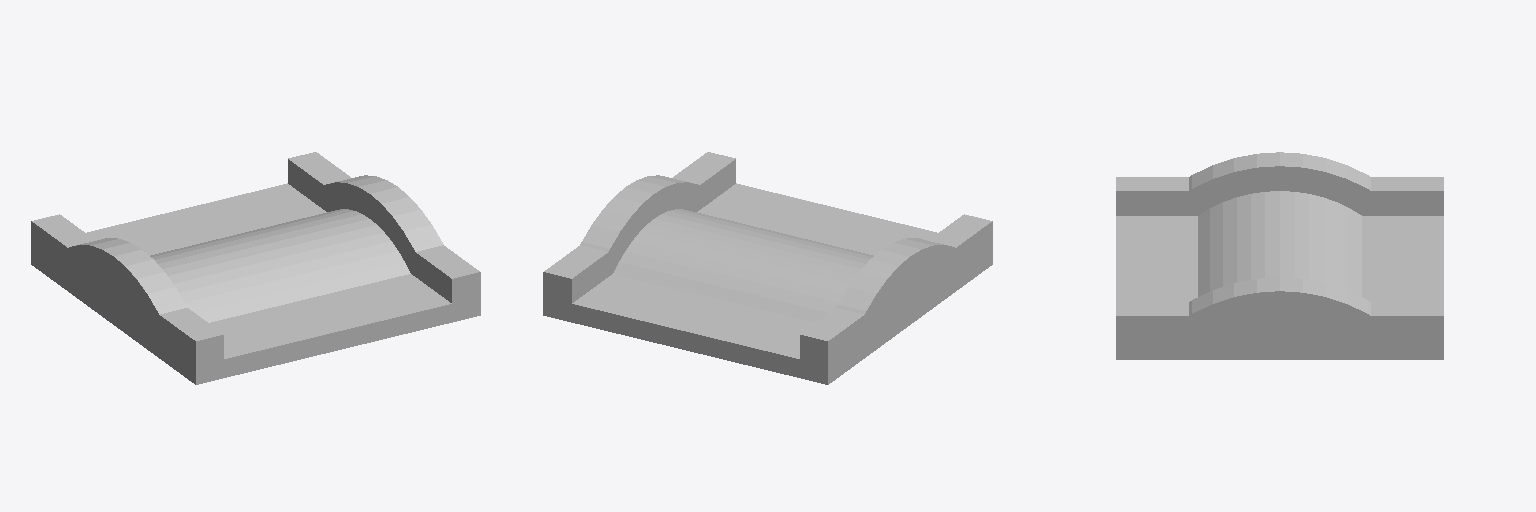
The model's file is hillRound.obj.
The picture shows the model from 3 angles: view 1: azimuth 30°, elevation 25°; view 2: azimuth 150°, elevation 25°; view 3: azimuth 270°, elevation 25°; orthographic projection.
Visible parts, largest first — view 1: hillRound; view 2: hillRound; view 3: hillRound.
Boxes of the visible parts, <box> form: hillRound: <box>31,152,480,384</box>; hillRound: <box>543,152,992,384</box>; hillRound: <box>1116,152,1443,359</box>.
Bounding box in the file's own units: 0.9999 × 0.23 × 0.9999.